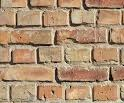brick: (1, 66, 54, 82), (58, 65, 109, 81), (10, 29, 53, 44), (55, 29, 106, 41), (10, 85, 37, 103), (44, 9, 71, 26), (66, 86, 93, 103), (39, 84, 63, 103), (94, 85, 119, 103), (17, 10, 42, 25), (97, 10, 122, 24), (39, 47, 64, 61), (66, 47, 91, 61), (95, 49, 120, 63), (71, 10, 95, 24), (13, 49, 37, 63), (84, 1, 124, 9), (1, 10, 16, 25), (1, 1, 27, 9), (110, 28, 124, 42), (111, 66, 124, 80), (28, 1, 56, 7), (1, 47, 12, 62), (1, 85, 9, 103), (58, 1, 81, 6), (1, 30, 9, 43)
